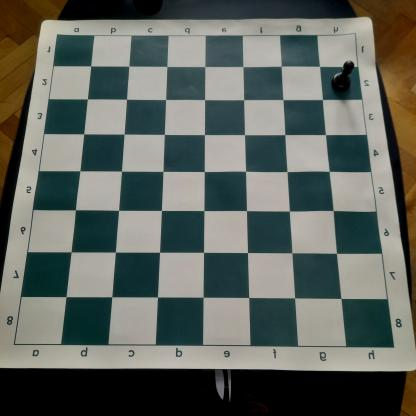black-pawn: (330, 60, 356, 93)
